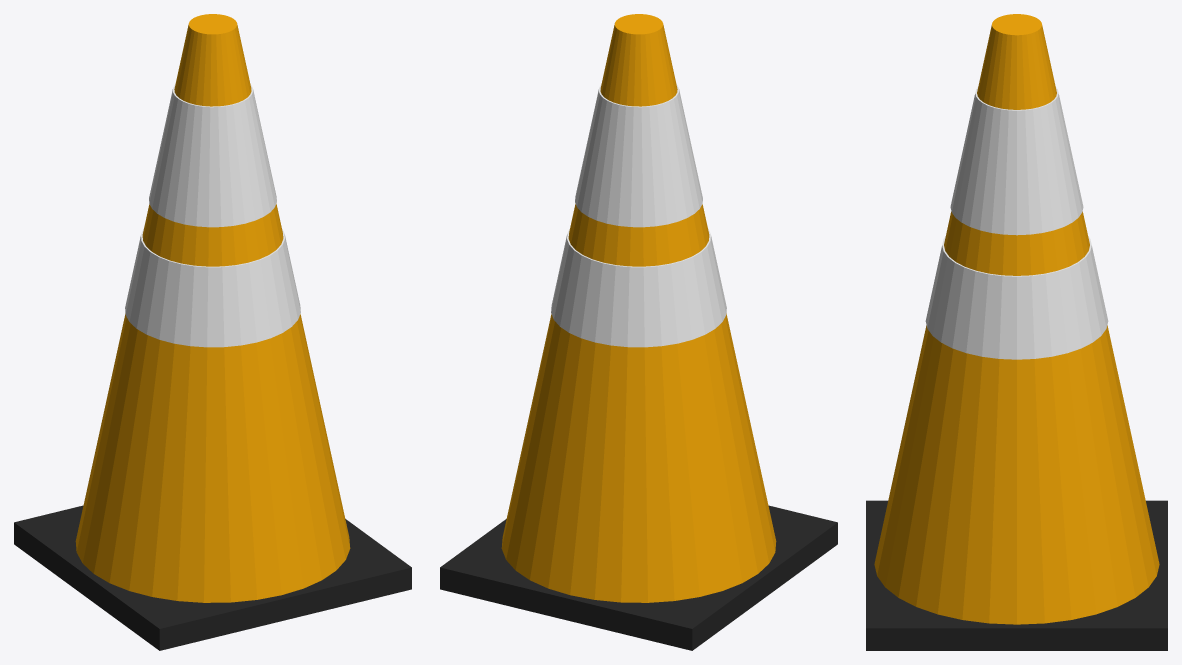
File: TrafficCone.fbx
3 renders of one model, left to right at view 1: azimuth 30°, elevation 25°; view 2: azimuth 150°, elevation 25°; view 3: azimuth 270°, elevation 25°, orthographic. The views are drawn at different scales.
Parts seen in each view (by area): view 1: Cone_Body, Cone_Base, Cone_Band_Lower, Cone_Band_Top; view 2: Cone_Body, Cone_Base, Cone_Band_Lower, Cone_Band_Top; view 3: Cone_Body, Cone_Base, Cone_Band_Lower, Cone_Band_Top.
Part boxes in pixels (x1,y1,x2,y2): Cone_Body: (75, 14, 350, 602); Cone_Base: (14, 505, 411, 650); Cone_Band_Lower: (125, 228, 300, 347); Cone_Band_Top: (149, 85, 276, 227); Cone_Body: (501, 14, 776, 602); Cone_Base: (440, 505, 837, 650); Cone_Band_Lower: (551, 228, 726, 347); Cone_Band_Top: (575, 85, 702, 227); Cone_Body: (874, 14, 1159, 624); Cone_Base: (866, 500, 1167, 650); Cone_Band_Lower: (925, 236, 1108, 359); Cone_Band_Top: (950, 87, 1083, 235).
Size of the model in its own units: 36 by 74 by 36.
